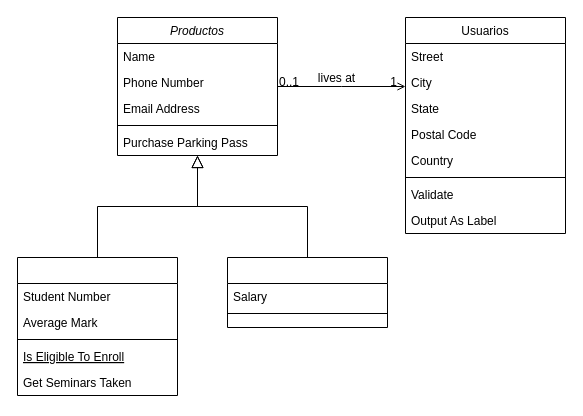
Image size: 583x416. Some labels were removed from this diagram. Here are the shapes that lost their labels. From the top down, the box of each, then its label:
(226, 256, 388, 328): Notificaciones
(16, 256, 178, 396): Proveedores
